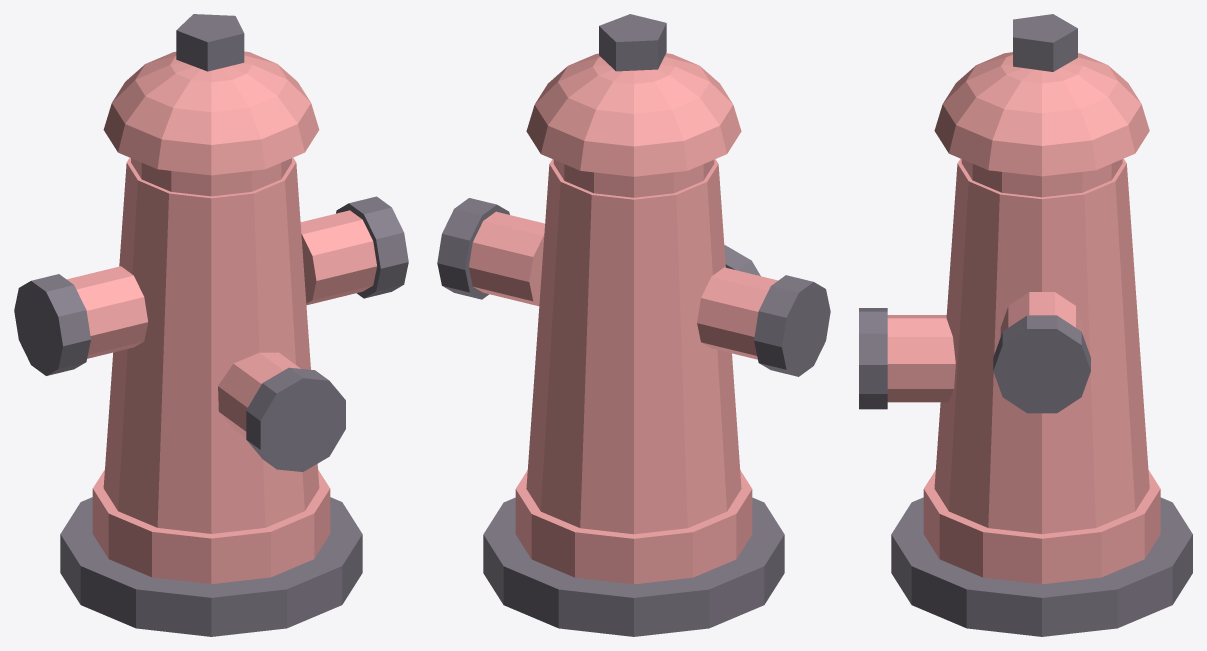
File: hydrant.glb
3 views of the same model, side by side, from view 1: azimuth 30°, elevation 25°; view 2: azimuth 150°, elevation 25°; view 3: azimuth 270°, elevation 25° (orthographic).
Parts seen in each view (by area): view 1: Barrel, Bonnet, BaseFlange, BaseSkirt, CapS, CapW, NozzleE, NozzleW, CapE, OperatingNut, Neck, NozzleS; view 2: Barrel, Bonnet, BaseFlange, BaseSkirt, CapW, NozzleE, NozzleW, CapE, OperatingNut, Neck, CapS; view 3: Barrel, Bonnet, BaseFlange, BaseSkirt, CapE, NozzleS, OperatingNut, Neck, CapS, NozzleE.
Boxes of the visible parts, box(x1,y1,x2,y2) form: Barrel: box(103, 158, 319, 533); Bonnet: box(103, 51, 319, 175); BaseFlange: box(60, 497, 362, 636); BaseSkirt: box(92, 469, 330, 583); CapS: box(246, 367, 345, 471); CapW: box(14, 274, 90, 375); NozzleE: box(300, 210, 376, 305); NozzleW: box(67, 266, 148, 358); CapE: box(336, 196, 408, 298); OperatingNut: box(176, 14, 244, 71); Neck: box(131, 158, 291, 196); NozzleS: box(218, 352, 300, 437); Barrel: box(526, 159, 741, 534); Bonnet: box(526, 53, 741, 176); BaseFlange: box(483, 497, 784, 636); BaseSkirt: box(515, 470, 752, 584); CapW: box(754, 275, 830, 376); NozzleE: box(469, 211, 544, 306); NozzleW: box(697, 267, 777, 359); CapE: box(437, 198, 509, 299); OperatingNut: box(599, 14, 666, 71); Neck: box(553, 160, 714, 197); CapS: box(724, 245, 760, 275); Barrel: box(934, 158, 1149, 534); Bonnet: box(934, 52, 1149, 176); BaseFlange: box(891, 497, 1192, 636); BaseSkirt: box(923, 470, 1160, 584); CapE: box(993, 315, 1090, 413); NozzleS: box(887, 315, 955, 402); OperatingNut: box(1013, 14, 1077, 71); Neck: box(961, 159, 1122, 197); CapS: box(859, 308, 887, 409); NozzleE: box(1000, 292, 1083, 336).
Size of the model in its own units: 0.555 by 0.8375 by 0.465.
